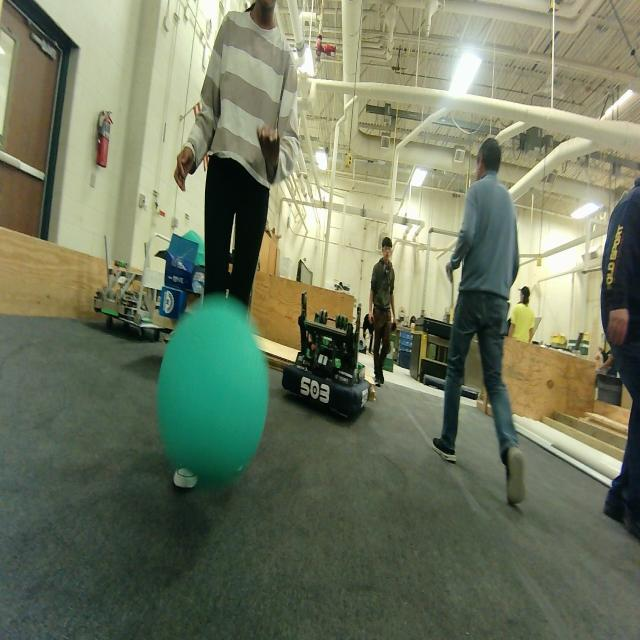algae: (152, 295, 268, 510)
